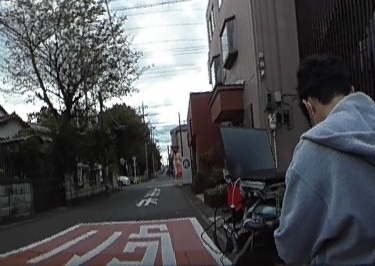person: (272, 57, 375, 266)
